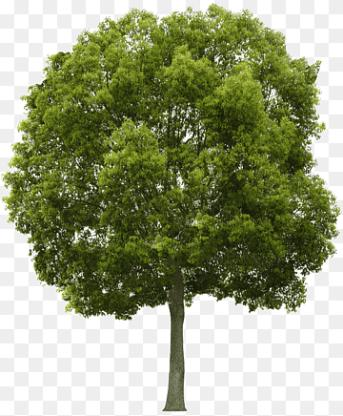tree: (0, 1, 341, 416)
